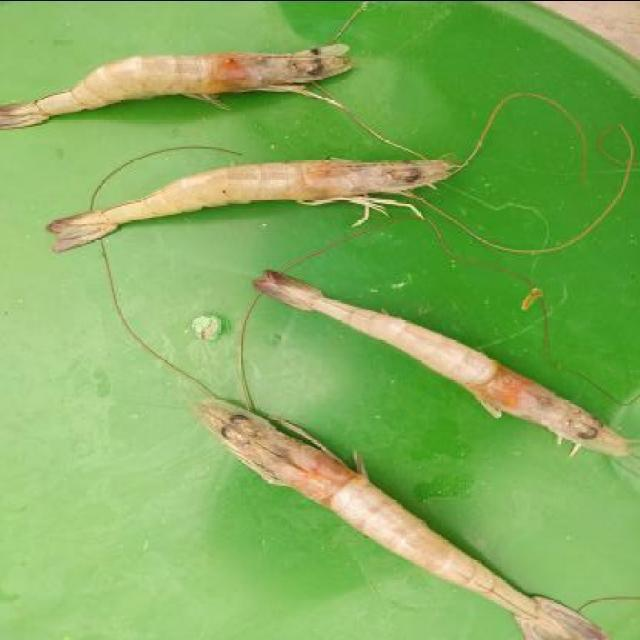shrimp: (195, 410, 592, 634), (278, 277, 628, 460), (58, 156, 453, 219), (9, 41, 353, 109)
